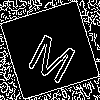M: (25, 25, 83, 85)
